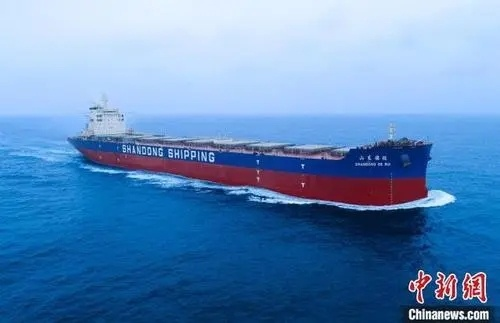Cargoship: (67, 91, 435, 210)
